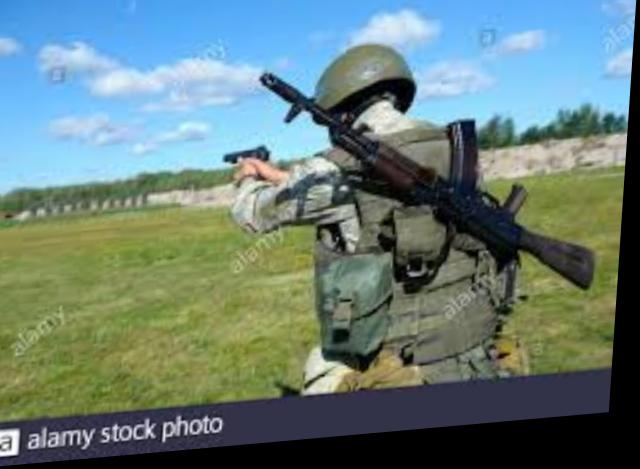other: (226, 43, 536, 401)
